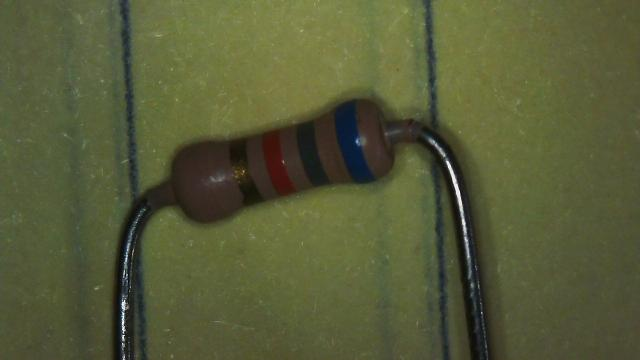blue: (334, 102, 376, 182)
gold: (230, 140, 262, 206)
grey: (296, 120, 330, 186)
orange: (262, 130, 296, 195)
resistor: (141, 65, 430, 263)
